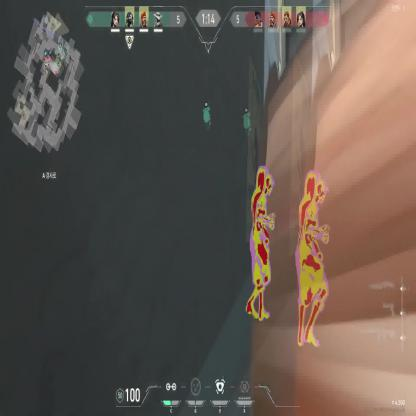enemy: (294, 166, 331, 348), (245, 165, 278, 325)
enemy_head: (312, 175, 327, 206), (263, 173, 274, 195)
